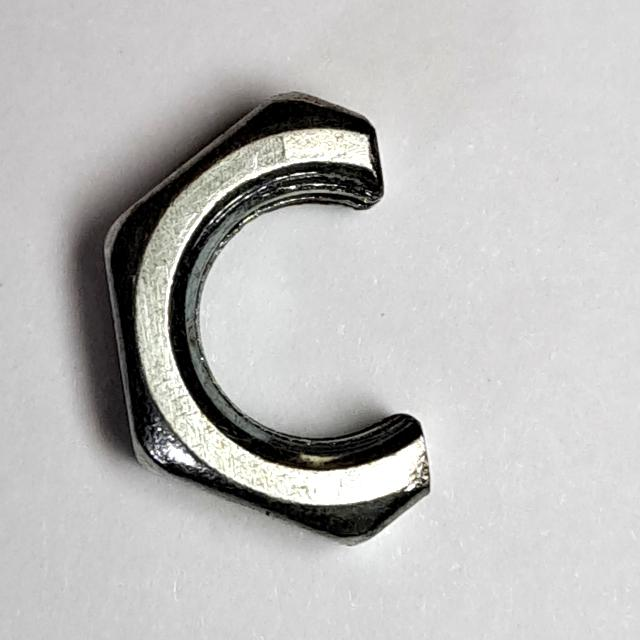Fracture: (87, 78, 449, 567)
